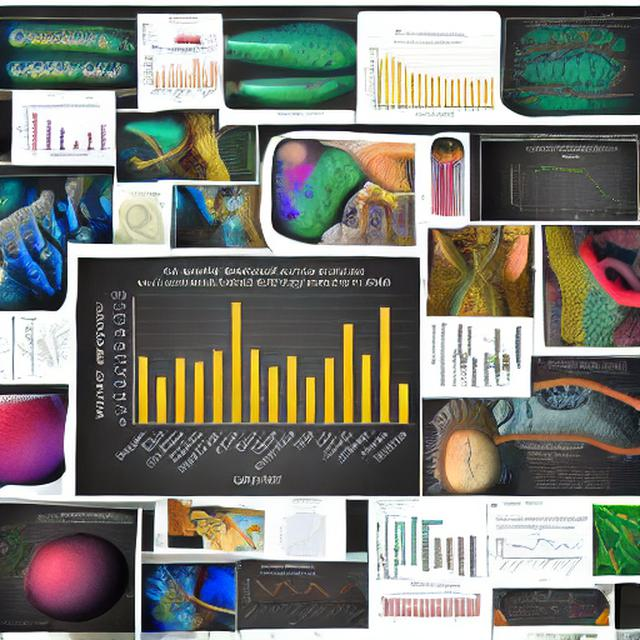Graph: (89, 259, 420, 496), (359, 38, 498, 121), (505, 143, 638, 221), (484, 523, 589, 586), (12, 101, 113, 160), (240, 569, 337, 627), (139, 47, 220, 104), (268, 509, 341, 559)
